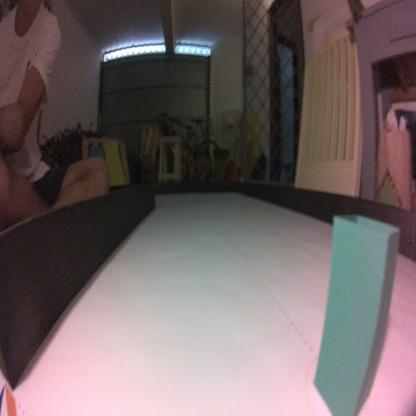green: (312, 209, 402, 416)
